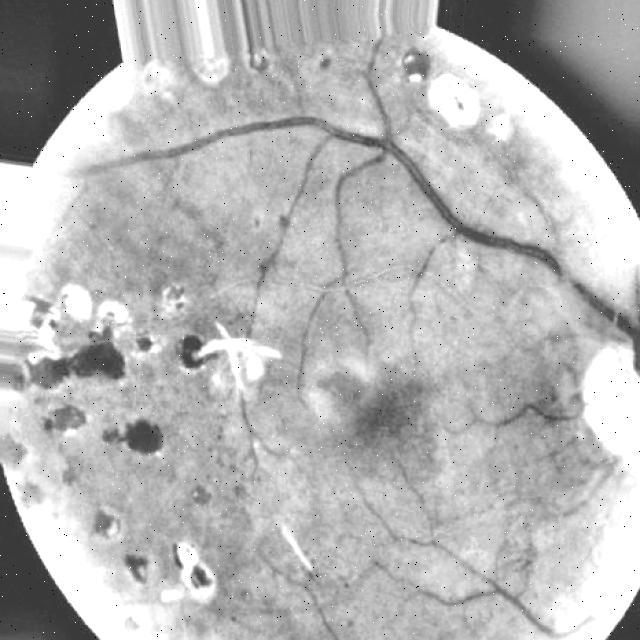Macula: (272, 334, 421, 454)
Nerves: (93, 48, 640, 424)
Optic Disk: (543, 305, 640, 614)
